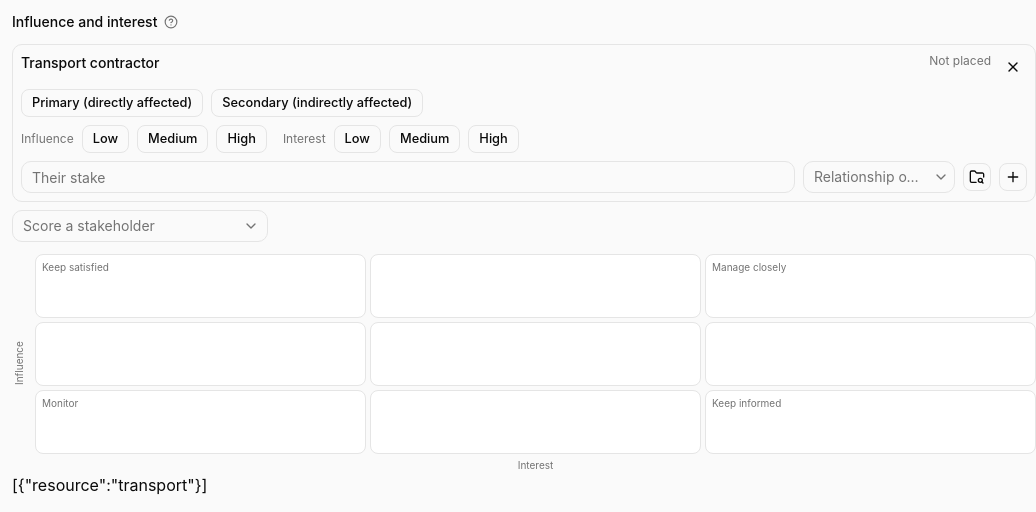
placing a stakeholder › places a party by its influence and interest in words
Expected: the text "Transport contractor" is shown, [21,54,160,71]
Expected: the text "Not placed" is shown, [929,53,991,69]
What coordinates should you click on to do the following:
click the 1st radio button labelled "High"
I would click on:
 (242, 139)
Its box is [216,125,267,153].
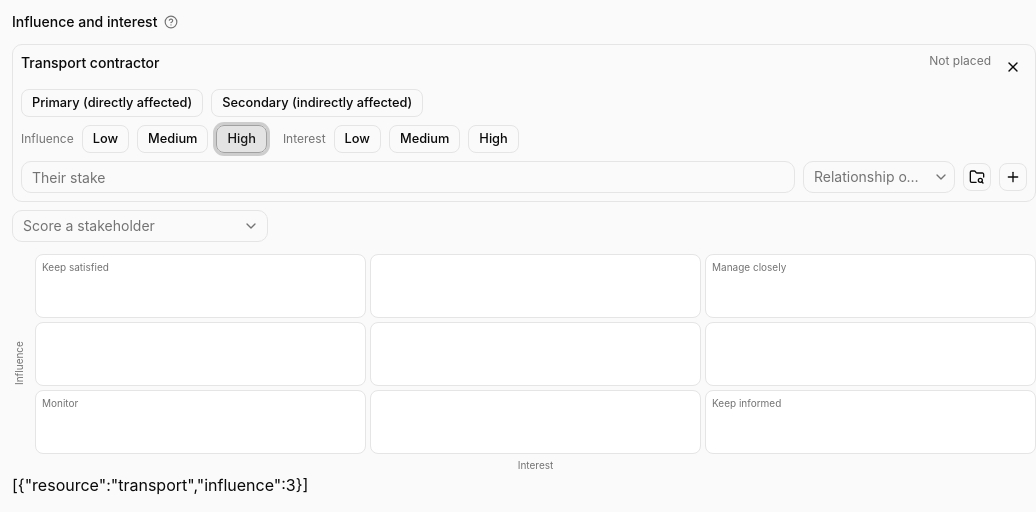
What coordinates should you click on to do the following:
click the 2nd radio button labelled "High"
I would click on:
 (494, 139)
Its box is [468,125,519,153].
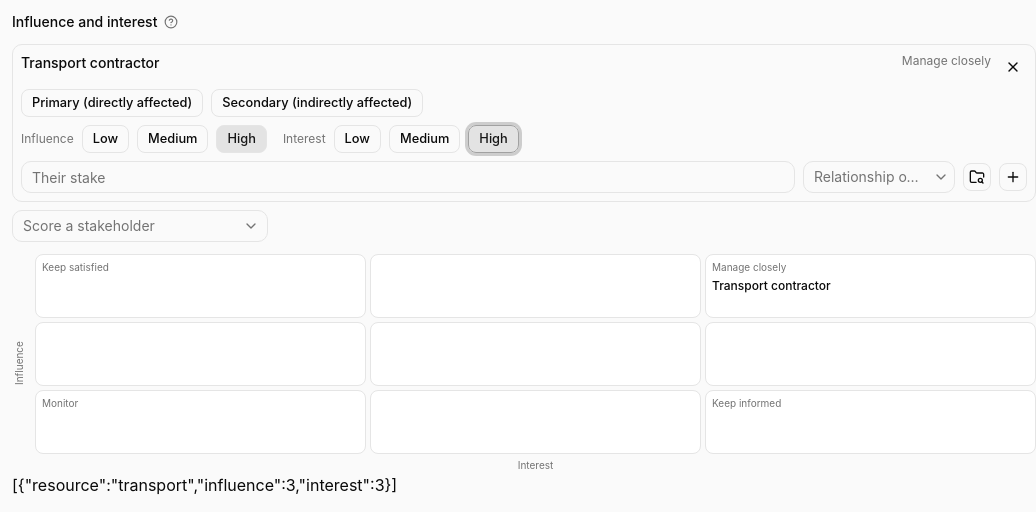
Expected: the 1st text "Manage closely" is shown, [902,53,991,69]
